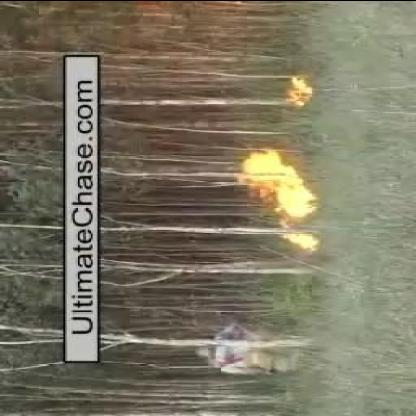foggia-v2-map80-epoch100 - v1 4323: (244, 150, 316, 218), (288, 78, 316, 104), (282, 231, 322, 247)
